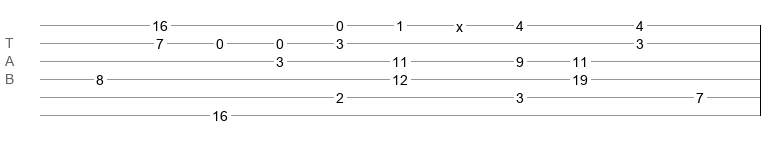0: (216, 36, 224, 46), (276, 36, 284, 46), (336, 18, 344, 28)
1: (396, 18, 404, 28)
11: (392, 54, 408, 64), (572, 54, 588, 64)
12: (392, 72, 408, 82)
16: (152, 18, 168, 28), (212, 108, 228, 118)
19: (572, 72, 588, 82)
2: (336, 90, 344, 100)
3: (276, 54, 284, 64), (336, 36, 344, 46), (516, 90, 524, 100), (636, 36, 644, 46)
4: (516, 18, 524, 28), (636, 18, 644, 28)
7: (156, 36, 164, 46), (696, 90, 704, 100)
8: (96, 72, 104, 82)
9: (516, 54, 524, 64)
x: (456, 19, 463, 27)
